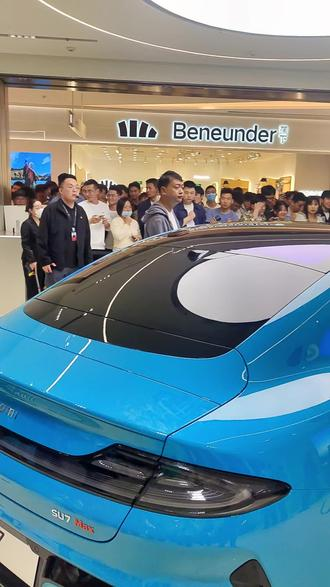su7: (3, 223, 330, 587)
